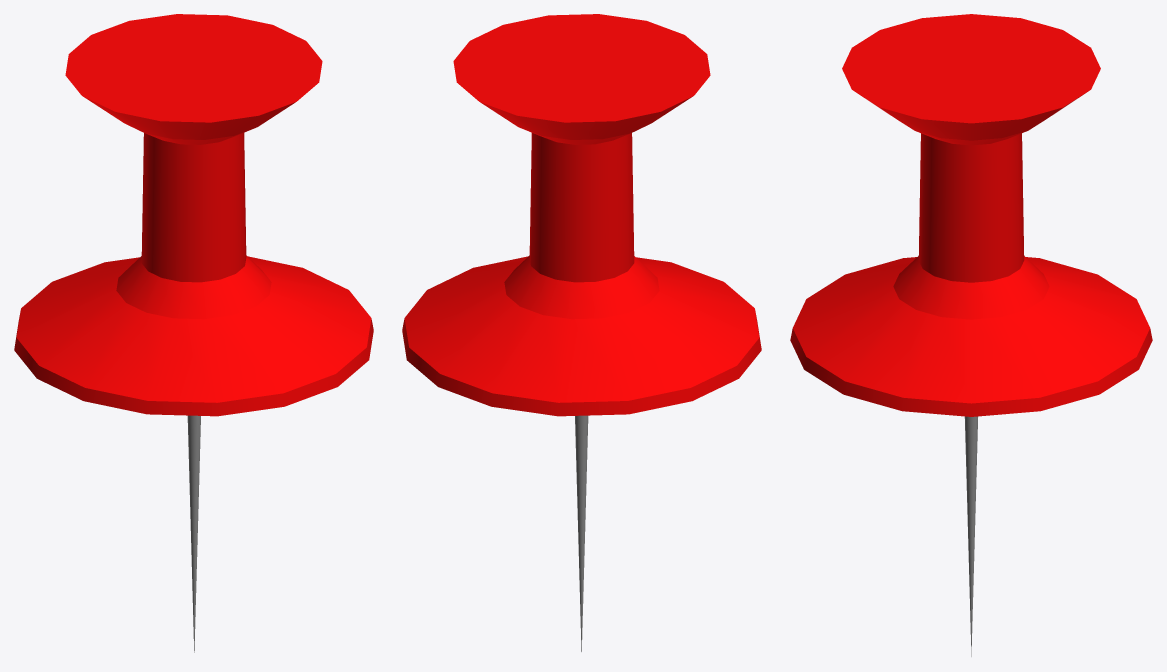
The model's file is pin.fbx.
The picture shows the model from 3 angles, left to right: view 1: azimuth 30°, elevation 25°; view 2: azimuth 150°, elevation 25°; view 3: azimuth 270°, elevation 25°; orthographic projection.
Parts seen in each view (by area): view 1: push pin; view 2: push pin; view 3: push pin.
Boxes of the visible parts, x1=… form: push pin: x1=14, y1=14, x2=373, y2=652; push pin: x1=402, y1=14, x2=761, y2=651; push pin: x1=790, y1=14, x2=1152, y2=656.
Bounding box in the file's own units: 1.49 × 2.67 × 1.49.
